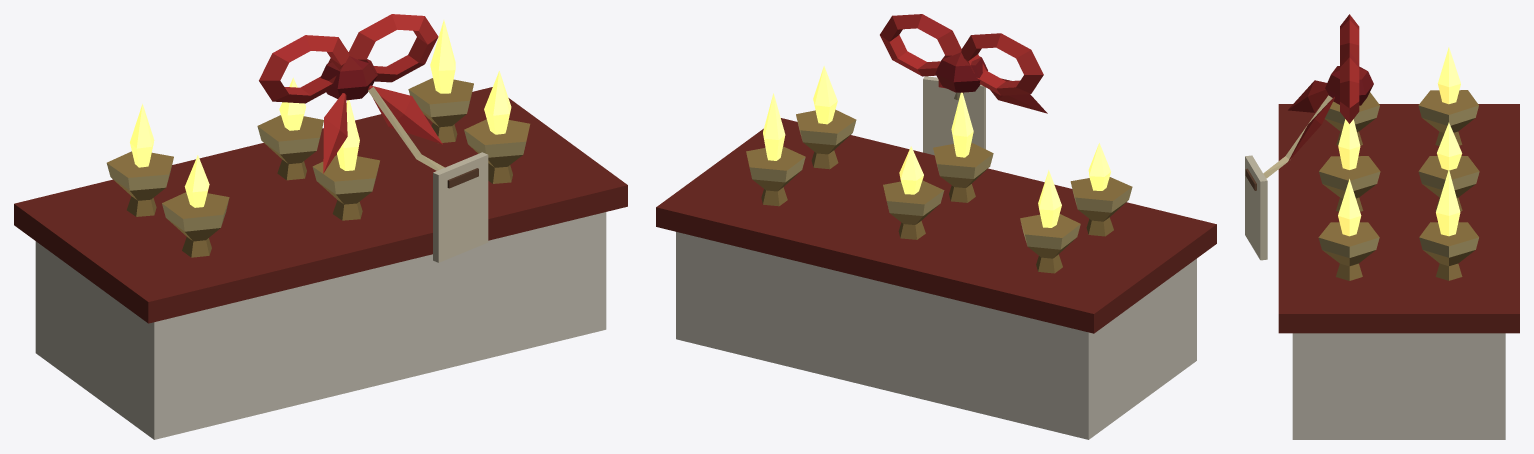
File: quest_butter_lamps.glb
3 renders of one model, left to right at view 1: azimuth 30°, elevation 25°; view 2: azimuth 150°, elevation 25°; view 3: azimuth 270°, elevation 25°, orthographic. The views are drawn at different scales.
Parts seen in each view (by area): view 1: quest_butter_lamps; view 2: quest_butter_lamps; view 3: quest_butter_lamps.
Boxes of the visible parts, x1,y1,x2,y2 form: quest_butter_lamps: [14, 14, 627, 439]; quest_butter_lamps: [656, 14, 1216, 439]; quest_butter_lamps: [1245, 14, 1519, 439].
Size of the model in its own units: 0.4 by 0.2687 by 0.2212.
